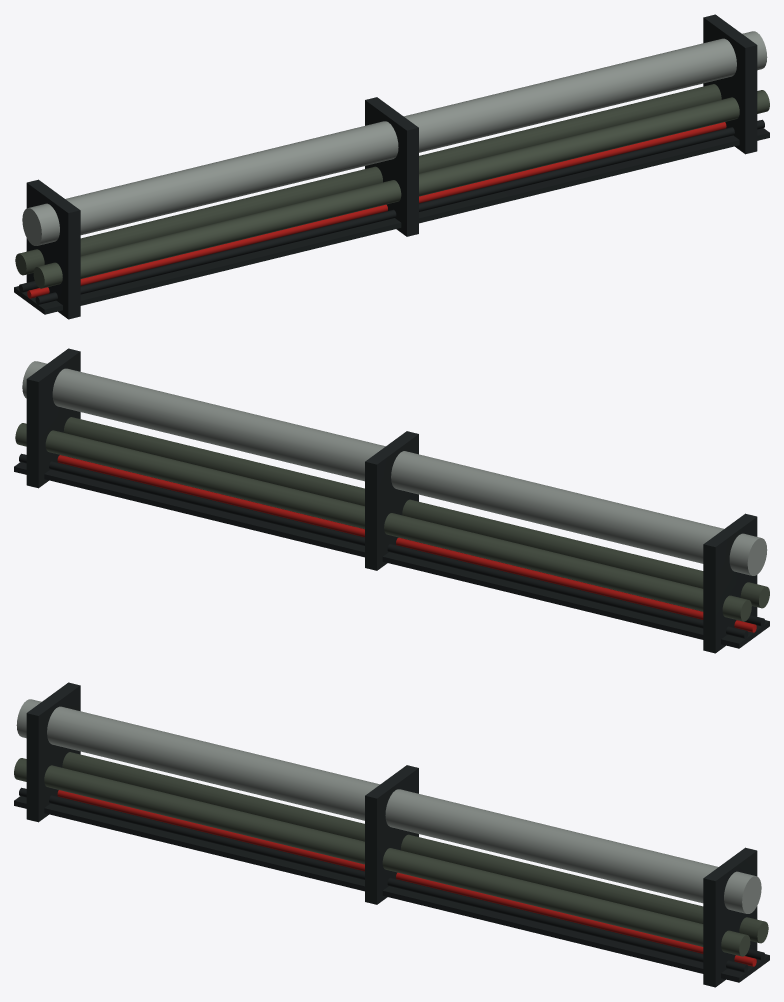
Rendered from pipe_run_3.glb.
The picture shows the model from 3 angles, top to bottom: view 1: azimuth 30°, elevation 25°; view 2: azimuth 150°, elevation 25°; view 3: azimuth 330°, elevation 25°; orthographic projection.
Parts seen in each view (by area): view 1: PipeRun3; view 2: PipeRun3; view 3: PipeRun3.
Part boxes in pixels (box(x1,y1,x2,y2)): PipeRun3: box(14, 14, 769, 319); PipeRun3: box(14, 348, 769, 653); PipeRun3: box(14, 682, 769, 987).
Size of the model in its own units: 3 by 0.42 by 0.3.
